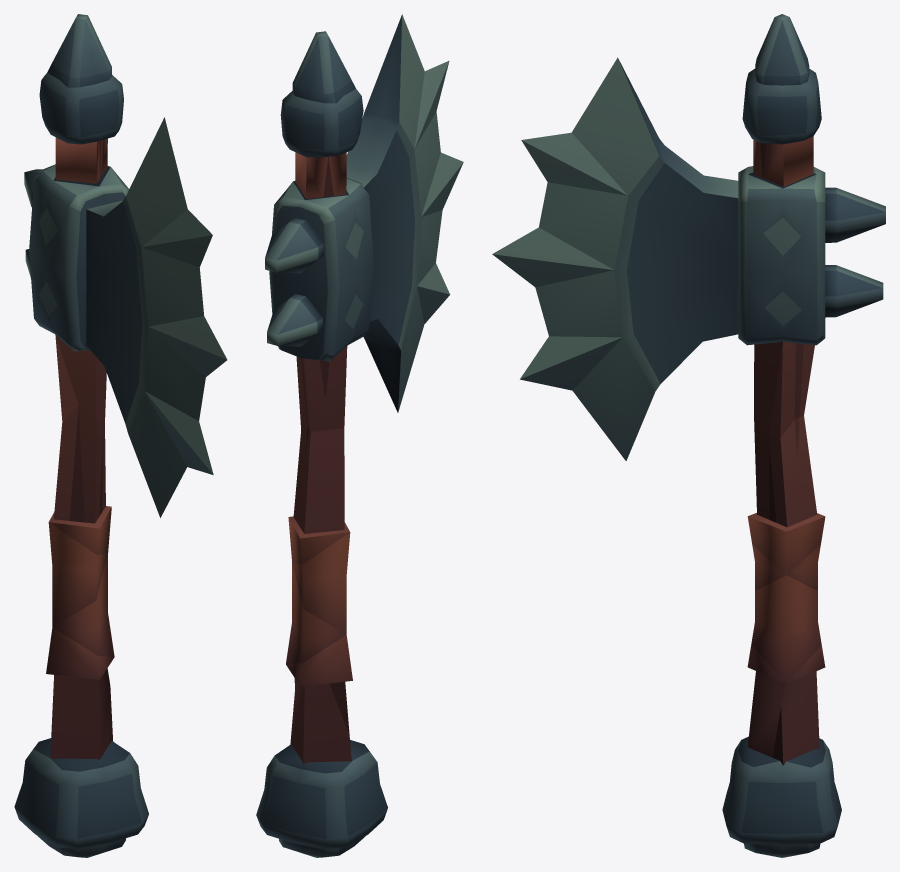
Rendered from axe_common.glb.
The picture shows the model from 3 angles, left to right: view 1: azimuth 30°, elevation 25°; view 2: azimuth 150°, elevation 25°; view 3: azimuth 270°, elevation 25°; orthographic projection. The views are drawn at different scales.
Parts seen in each view (by area): view 1: axe_common; view 2: axe_common; view 3: axe_common.
Boxes of the visible parts, x1,y1,x2,y2 form: axe_common: [14, 14, 227, 857]; axe_common: [256, 14, 463, 857]; axe_common: [492, 14, 885, 857].
Size of the model in its own units: 19.78 by 158 by 67.35.
